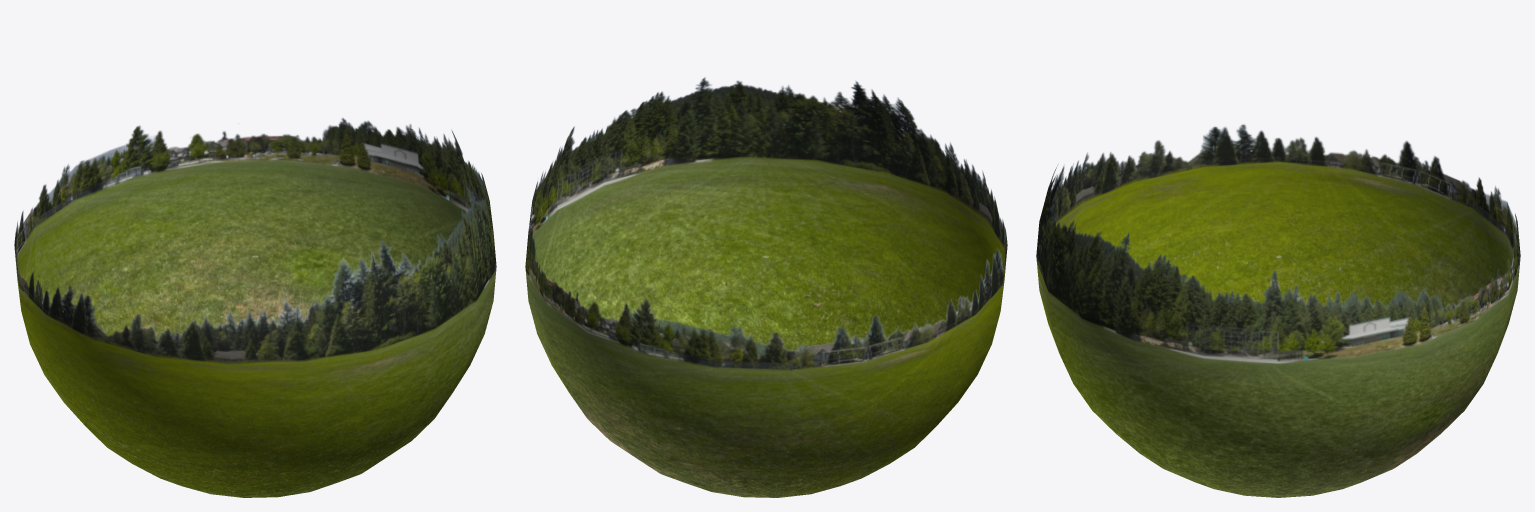
Rendered from pole.gltf.
The picture shows the model from 3 angles, left to right: view 1: azimuth 30°, elevation 25°; view 2: azimuth 150°, elevation 25°; view 3: azimuth 270°, elevation 25°; orthographic projection.
Visible parts, largest first — view 1: pSphere1; view 2: pSphere1; view 3: pSphere1.
Boxes of the visible parts, left/top/right/bottom form: pSphere1: left=14, top=118, right=496, bottom=497; pSphere1: left=525, top=77, right=1007, bottom=497; pSphere1: left=1036, top=124, right=1520, bottom=497.
Size of the model in its own units: 1800 by 1800 by 1800.
